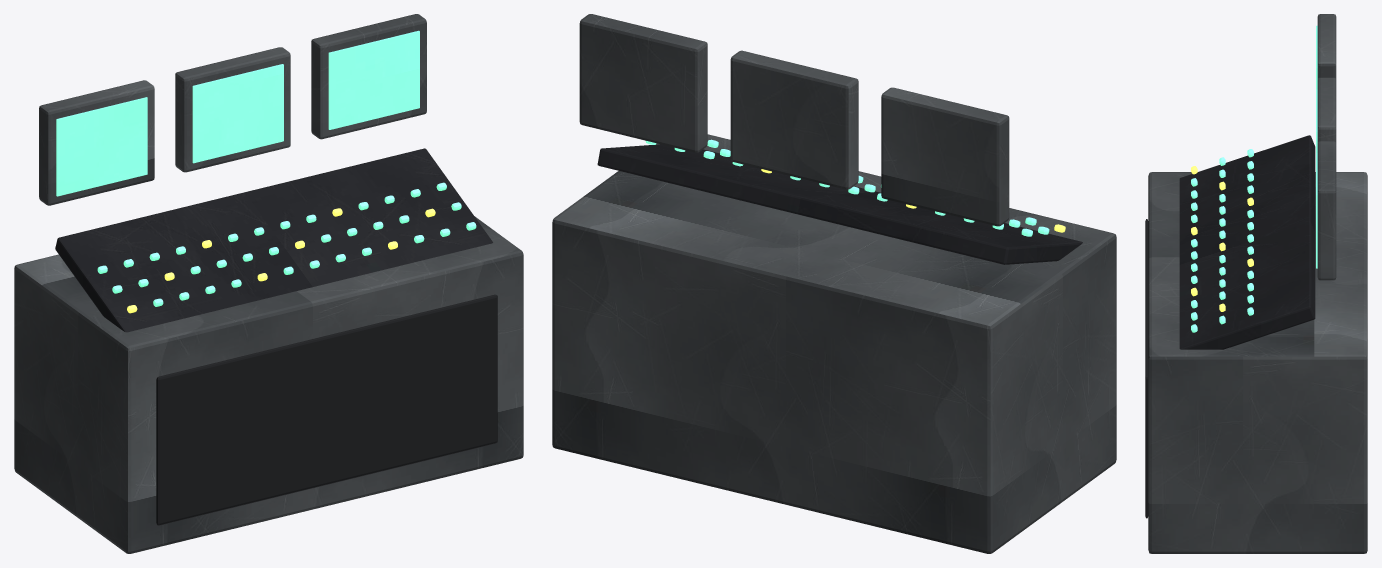
The model's file is console_terminal.glb.
The picture shows the model from 3 angles, left to right: view 1: azimuth 30°, elevation 25°; view 2: azimuth 150°, elevation 25°; view 3: azimuth 270°, elevation 25°; orthographic projection. The views are drawn at different scales.
Visible parts, largest first — view 1: body; view 2: body; view 3: body.
Part boxes in pixels (x1=…): body: x1=14, y1=14, x2=523, y2=553; body: x1=552, y1=14, x2=1116, y2=553; body: x1=1145, y1=14, x2=1367, y2=553.
Bounding box in the file's own units: 1.4 × 1.27 × 0.71.
6 materials, 3 textured.
